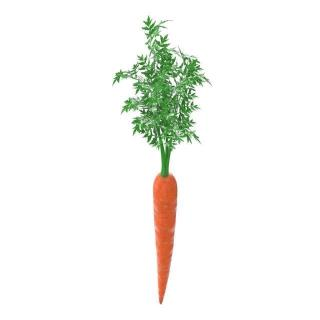carrot: (150, 163, 178, 311)
